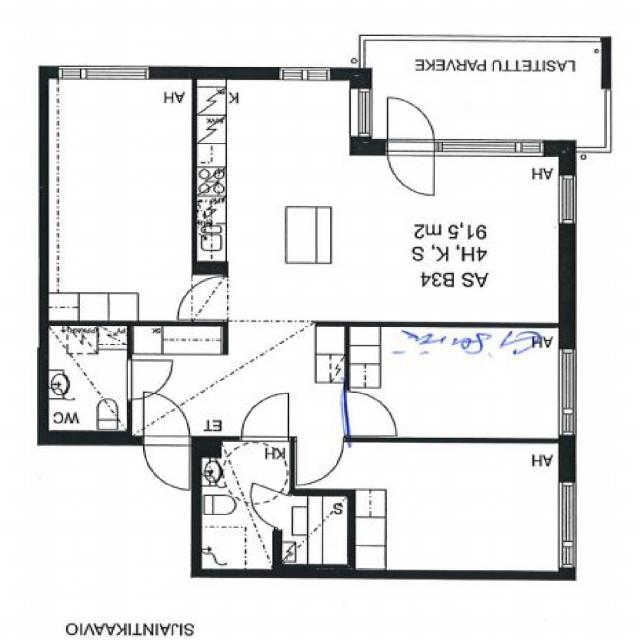door: (387, 96, 434, 154), (387, 140, 434, 198), (143, 393, 189, 444), (143, 436, 189, 486), (241, 392, 288, 440), (297, 436, 343, 484), (242, 482, 291, 526), (178, 276, 228, 319), (345, 391, 395, 434), (127, 359, 173, 398)
